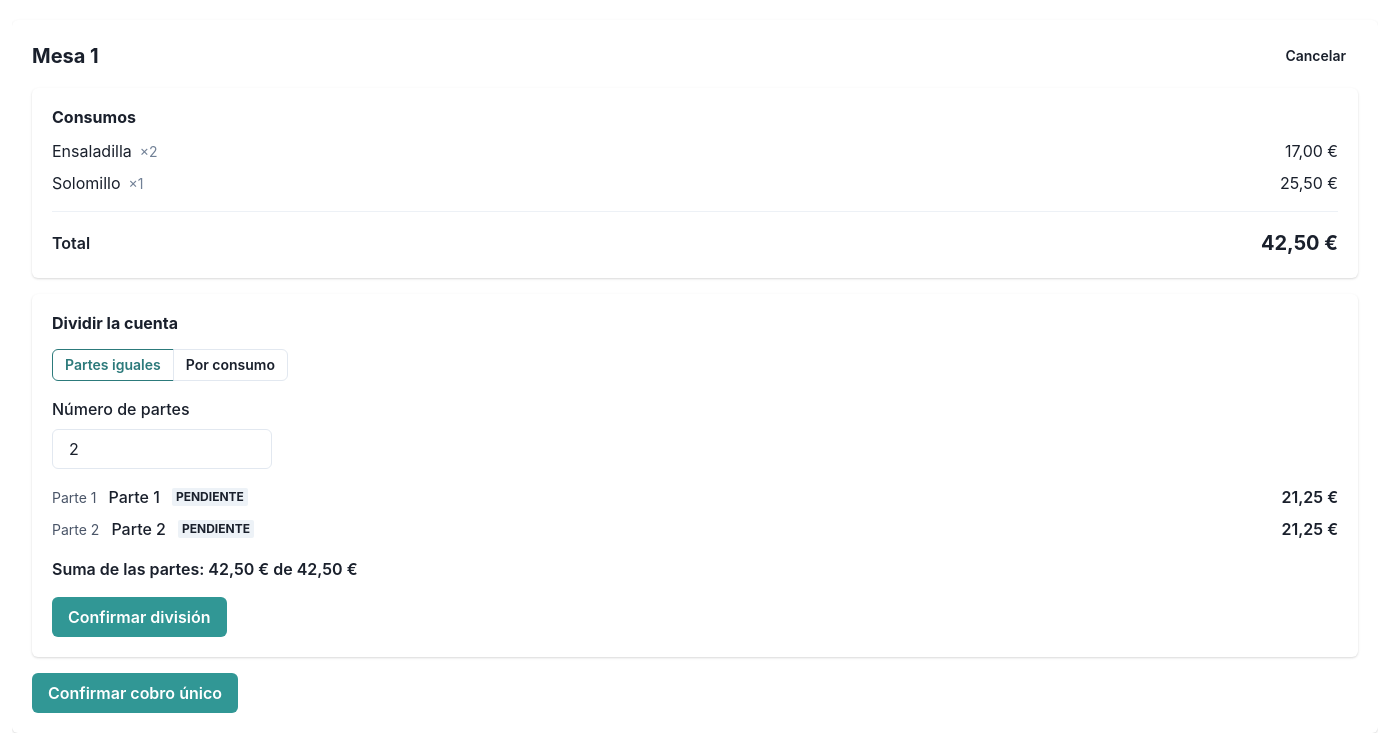
Test: CierreCuenta (US2) › confirma el cobro único y muestra el ticket final
The width and height of the screenshot is (1378, 733).
(page scrolled)
Click the button "Confirmar cobro único" at x=135, y=693, box [32,673,238,713]
(page scrolled)
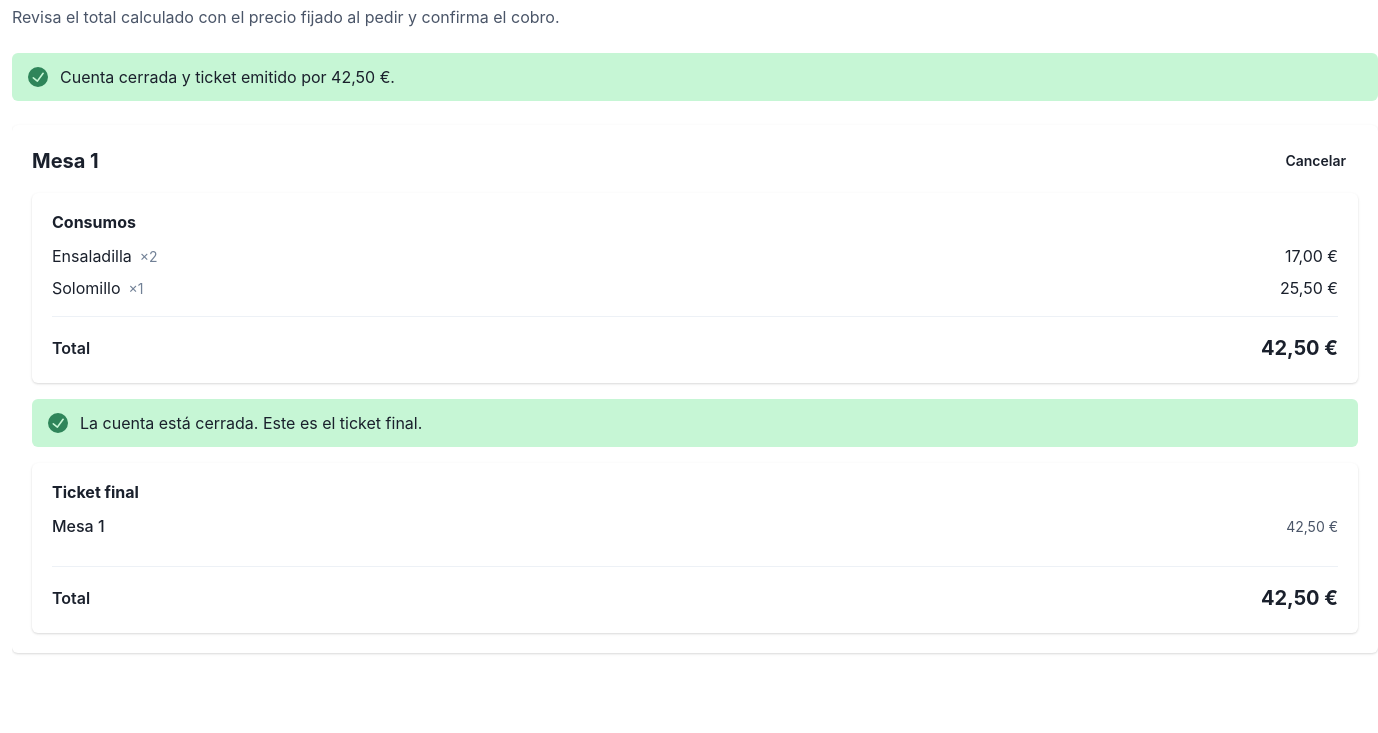
Expected: the text "Cuenta cerrada y ticket emitido por 42,50 €." is shown, [60,65,395,89]
Expected: the text "42,50 €" is shown 2 times, [1286,516,1338,537]; [1261,583,1338,613]
Expected: the text "Mesa 1" is shown, [52,514,105,538]
